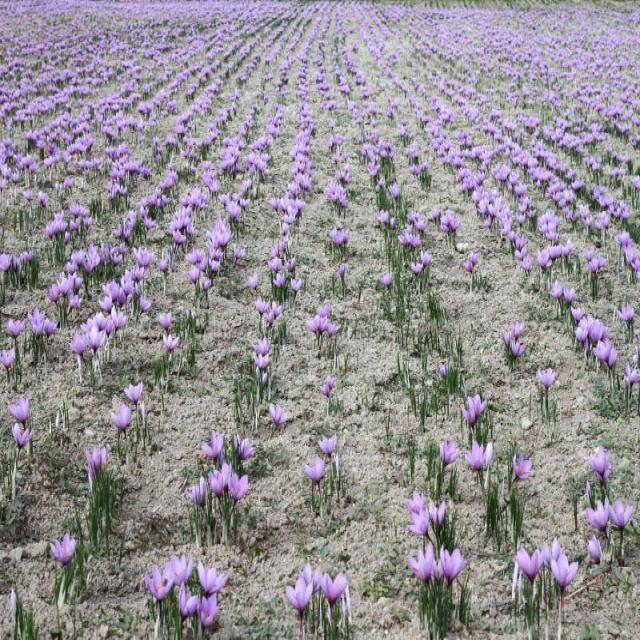Flower: (0, 0, 640, 75), (1, 74, 221, 238), (422, 74, 620, 224), (235, 82, 420, 223), (524, 254, 636, 366), (267, 246, 358, 362), (44, 255, 130, 356), (458, 400, 533, 494), (150, 555, 234, 632), (518, 536, 588, 613), (192, 428, 261, 500), (282, 566, 353, 626), (304, 430, 354, 503), (417, 538, 465, 596), (460, 241, 504, 298), (75, 446, 111, 486), (404, 236, 436, 279), (52, 526, 81, 568)
